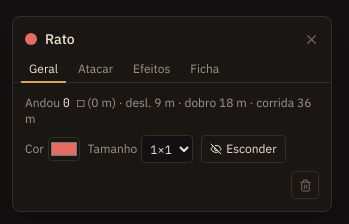
Test: TokenPanel › ataque sem ficha avisa
The width and height of the screenshot is (349, 224).
Click the tab "Atacar". click: [96, 70]
box: [70,57,121,83]
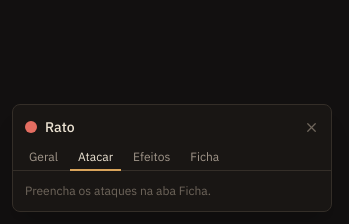
Now the text "Preencha os ataques na aba Ficha." is shown, box [25,183,211,198]
